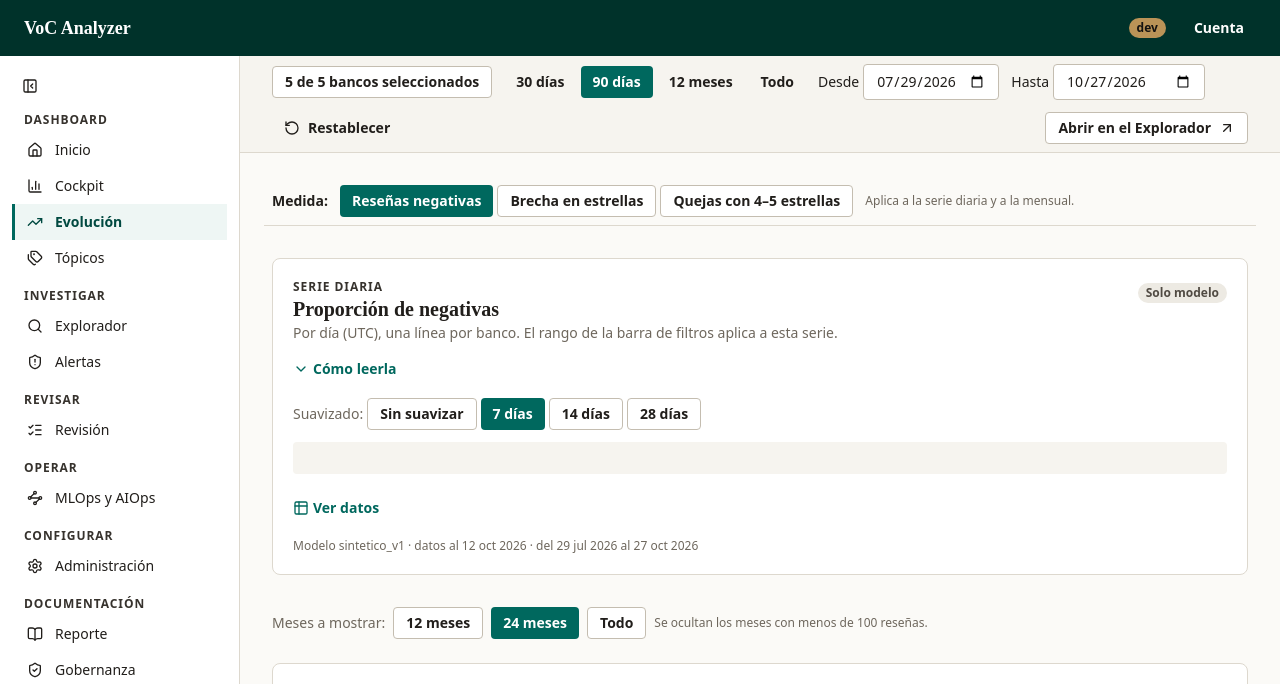
Scenario: cockpit, leyenda y medida de la serie diaria › la medida es un solo selector fijo que gobierna la serie y el mensual
The width and height of the screenshot is (1280, 684).
Expected: the element "Brecha en estrellas" shows "Medida:", left=272, top=191, right=328, bottom=210
Expected: the element "Brecha en estrellas" shows "serie diaria y a la mensual", left=865, top=192, right=1074, bottom=209
Click the button "Brecha en estrellas". click: (577, 201)
box: left=497, top=185, right=656, bottom=217
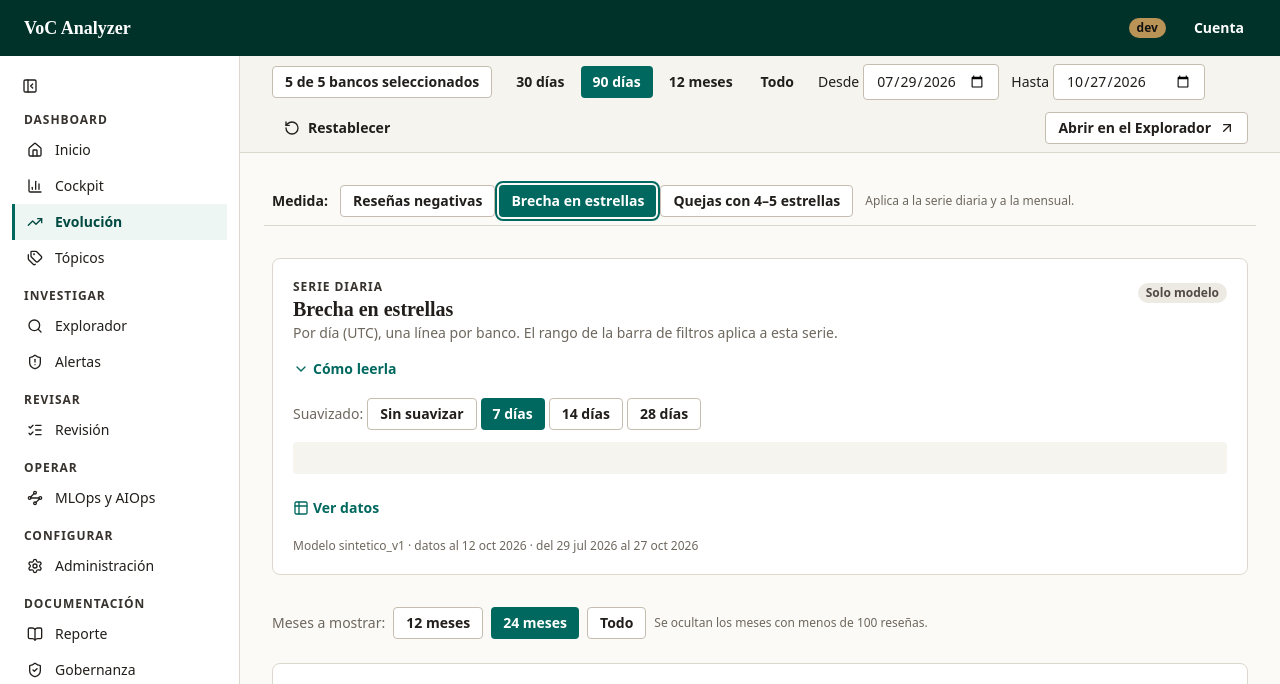
Expected: the heading "Brecha en estrellas" is shown, left=293, top=298, right=453, bottom=320
